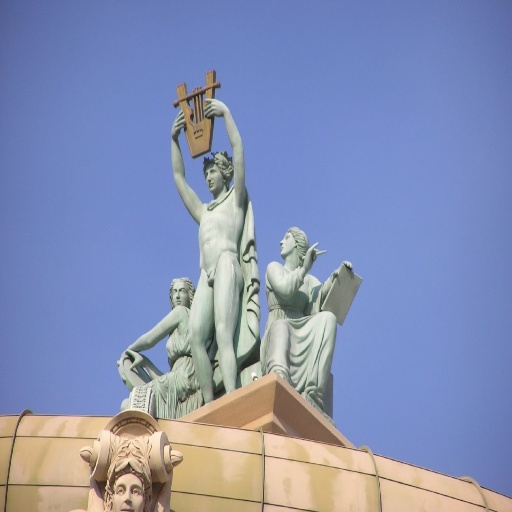hand: (302, 239, 324, 270), (169, 108, 186, 142), (200, 96, 225, 119), (121, 346, 145, 369), (332, 258, 353, 283)
